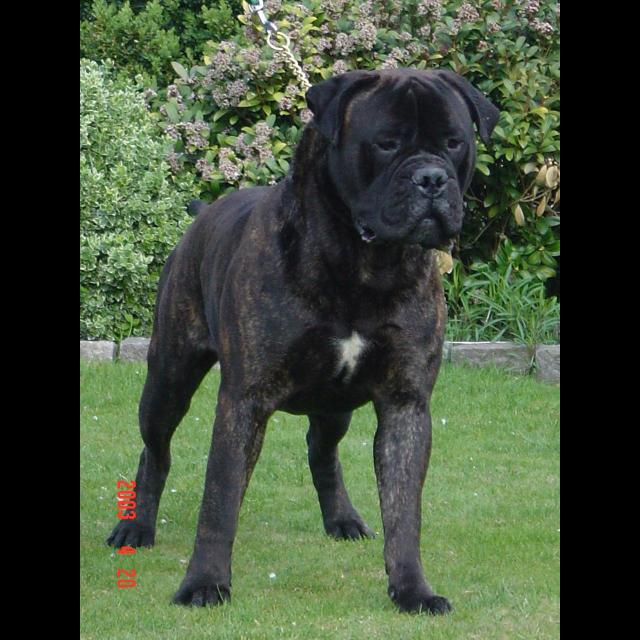bullmastiff: (107, 68, 501, 617)
